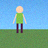person: (13, 6, 26, 33)
